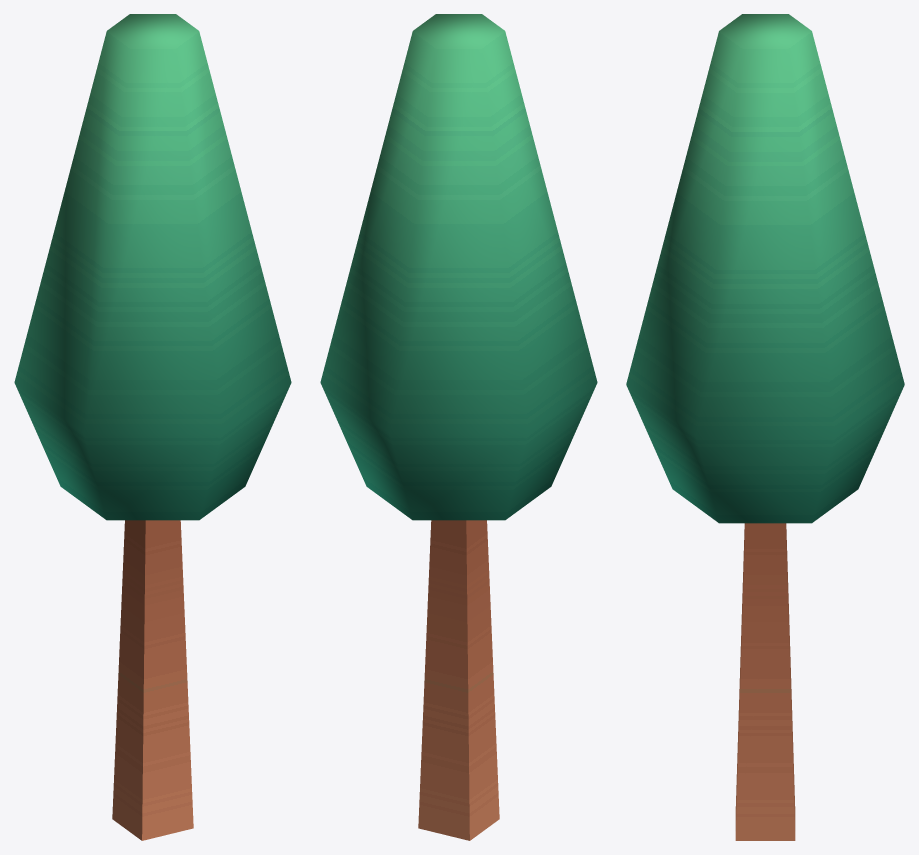
Rendered from tree-large.glb.
3 renders of one model, left to right at view 1: azimuth 30°, elevation 25°; view 2: azimuth 150°, elevation 25°; view 3: azimuth 270°, elevation 25°, orthographic.
Visible parts, largest first — view 1: tree-large; view 2: tree-large; view 3: tree-large.
Part boxes in pixels (left/top/right/bottom): tree-large: left=14, top=14, right=291, bottom=840; tree-large: left=320, top=14, right=597, bottom=840; tree-large: left=626, top=14, right=904, bottom=840.
Bounding box in the file's own units: 1.26 × 4.6 × 1.46.
1 material, 1 textured.
